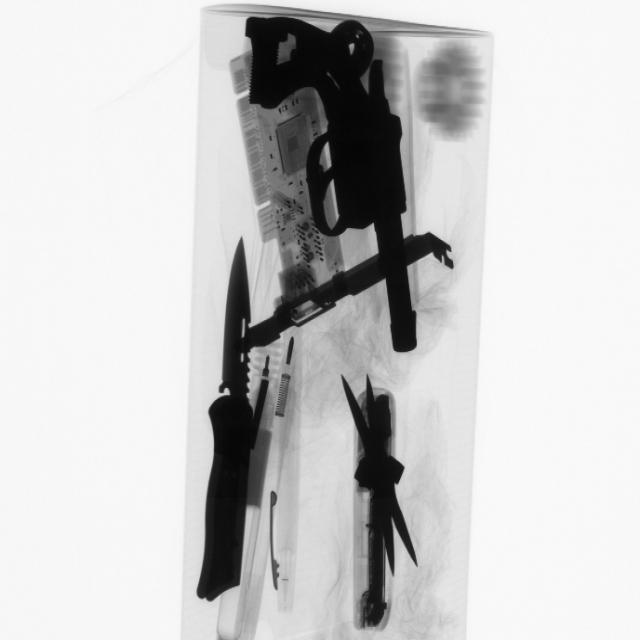GUN: (264, 19, 425, 354)
KNIFE: (193, 248, 275, 613)
SHURIKEN: (338, 361, 421, 597)
